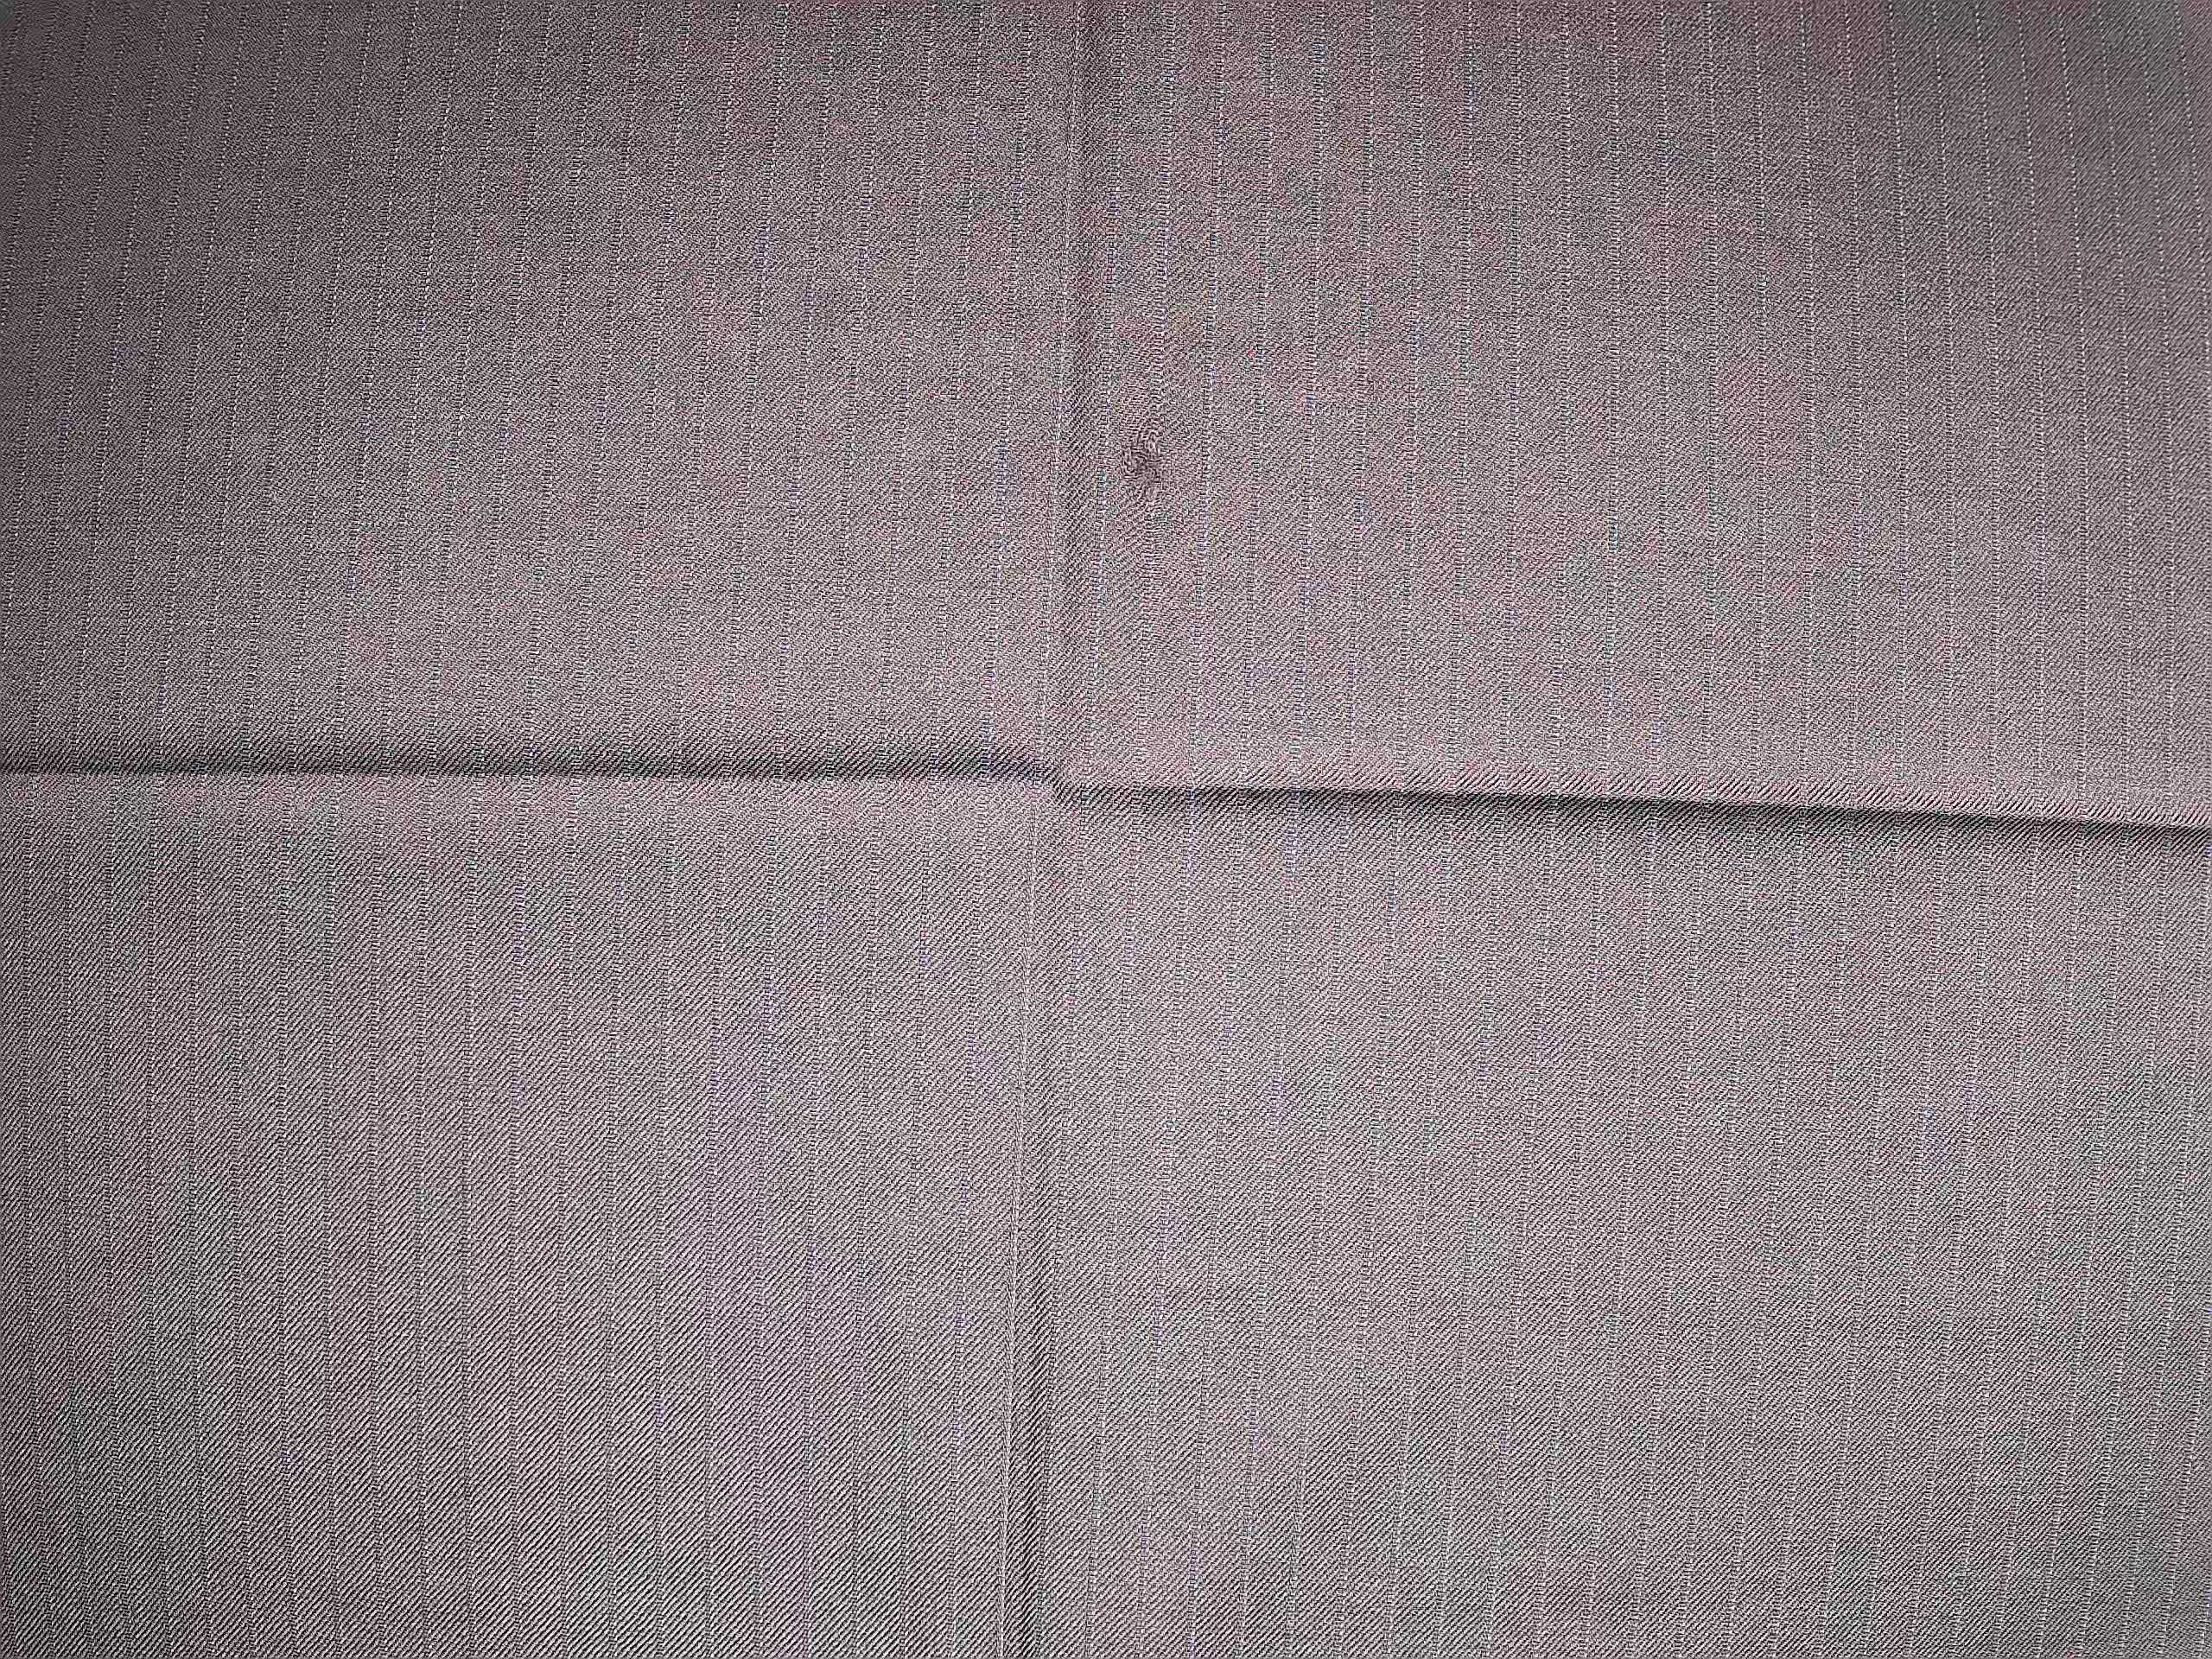brushed-hole: (1082, 380, 1216, 545)
